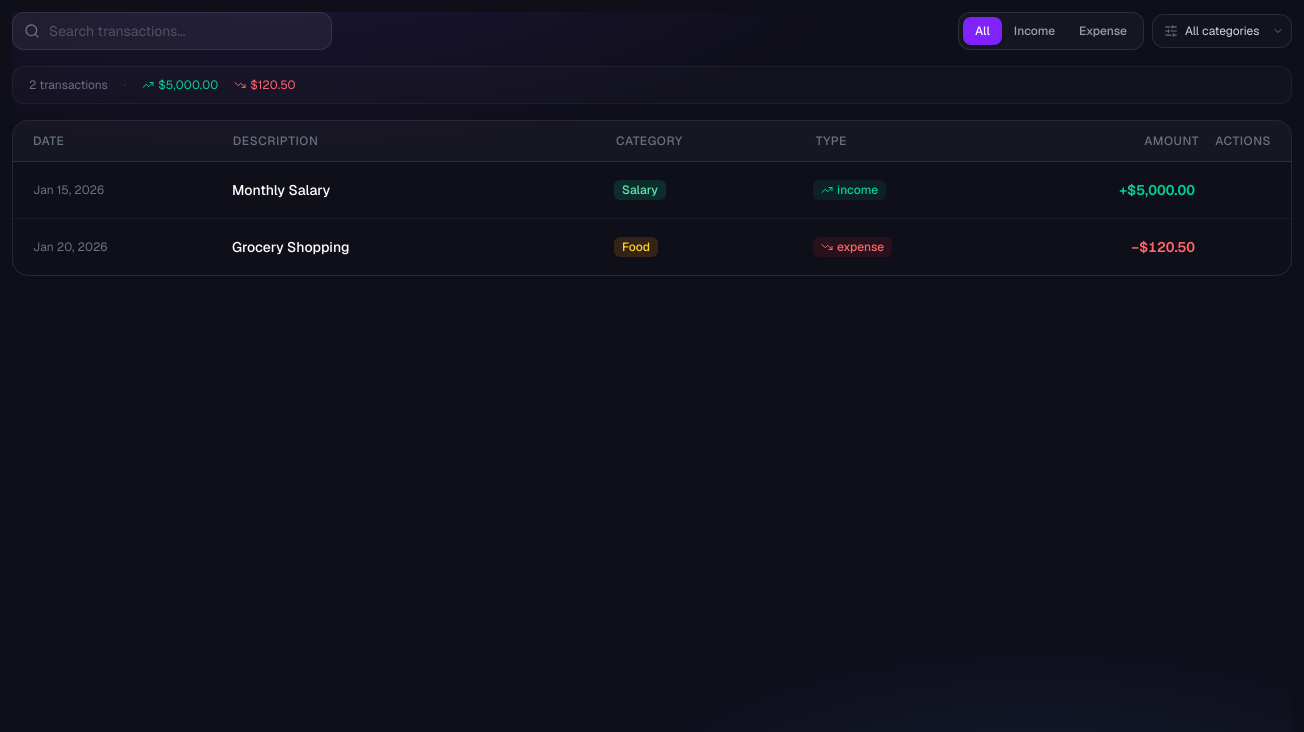
it: TransactionsList › shows 'no results' empty state when search matches nothing
Type "xyznotfound" into the field with placeholder "Search transactions…" at point(172, 31), box [12,12,332,50]
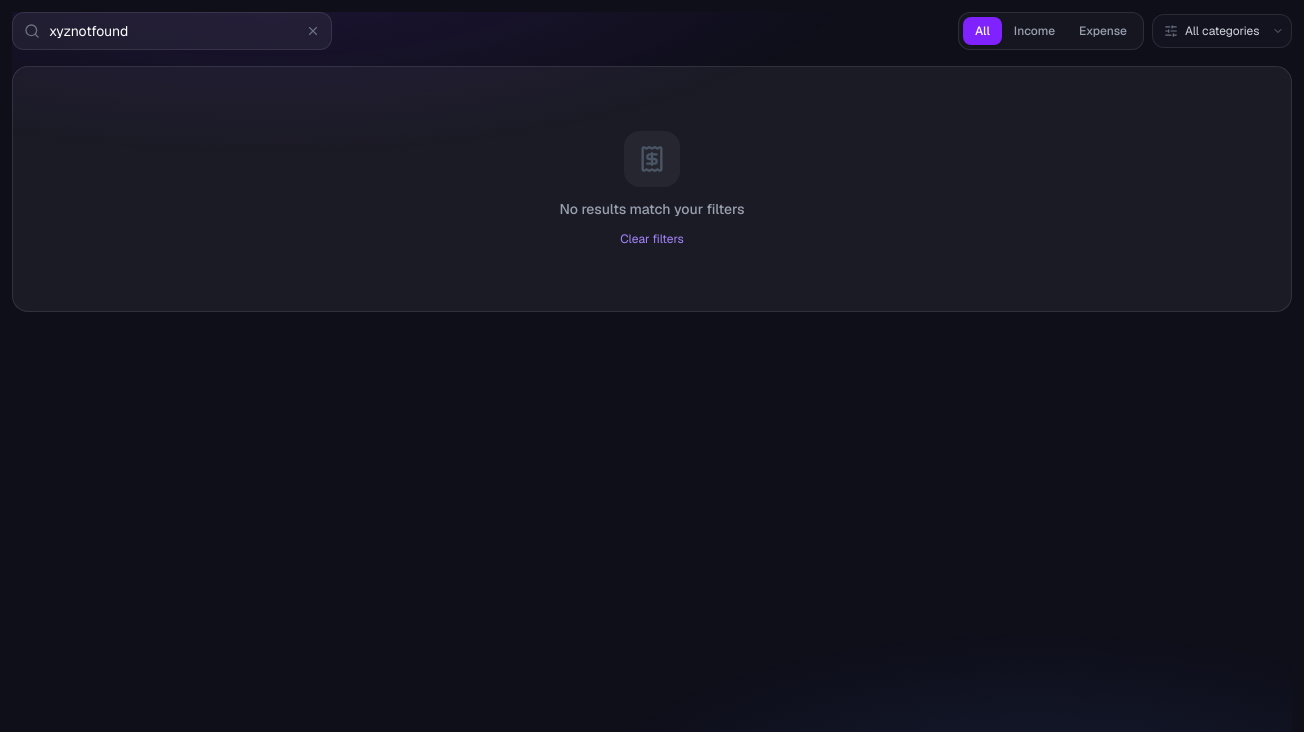
Expected: the text "No results match your filters" is shown, [560,199,745,219]
